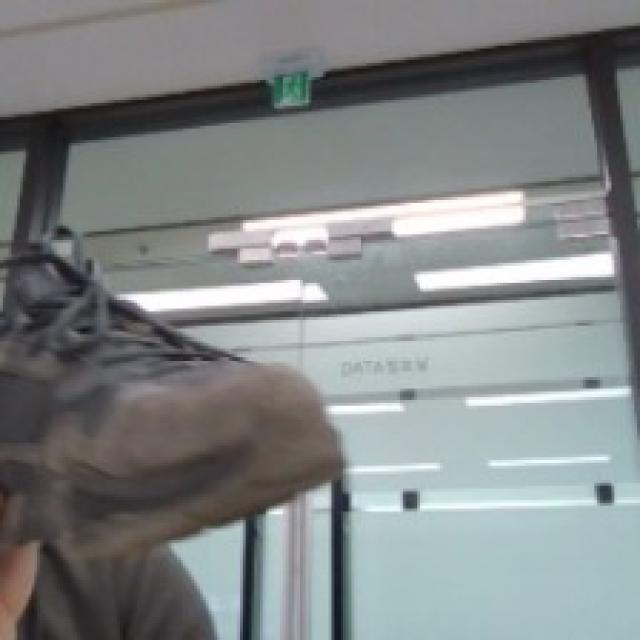shoe: (1, 212, 362, 640)
